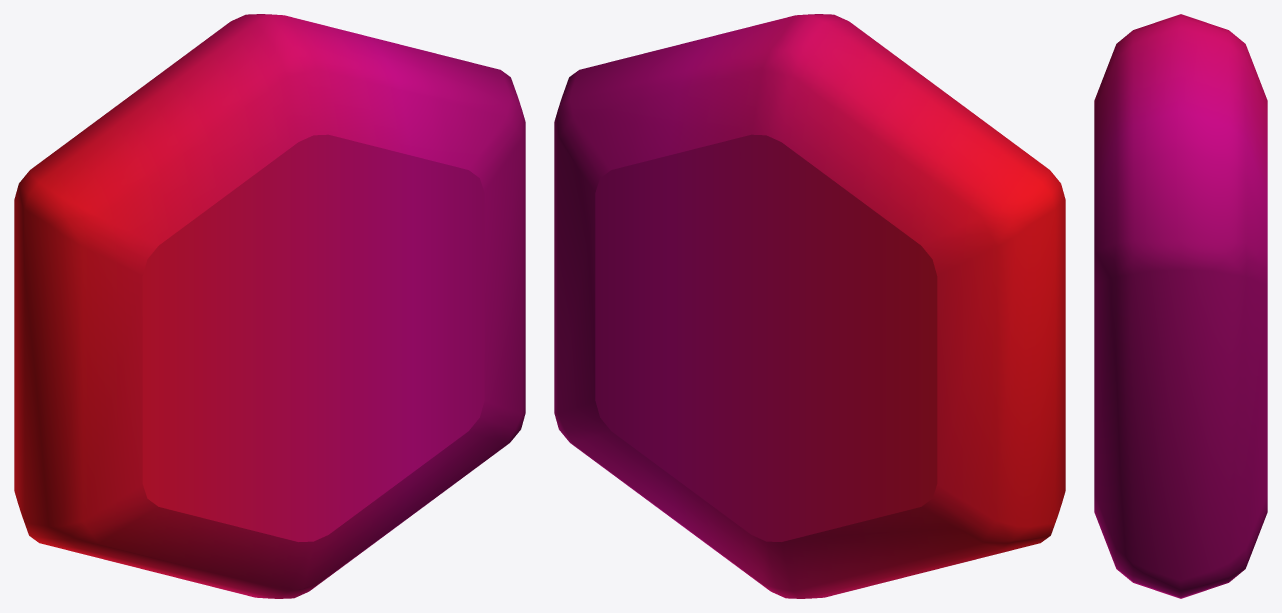
Rendered from Diamond_V2_1.fbx.
3 views of the same model, side by side, from view 1: azimuth 30°, elevation 25°; view 2: azimuth 150°, elevation 25°; view 3: azimuth 270°, elevation 25° (orthographic).
Visible parts, largest first — view 1: Diamond_V2_1; view 2: Diamond_V2_1; view 3: Diamond_V2_1.
Part boxes in pixels (x1,y1,x2,y2): Diamond_V2_1: [14, 14, 525, 598]; Diamond_V2_1: [554, 14, 1065, 598]; Diamond_V2_1: [1094, 14, 1267, 598].
Size of the model in its own units: 0.4273 by 0.4841 by 0.1318.
